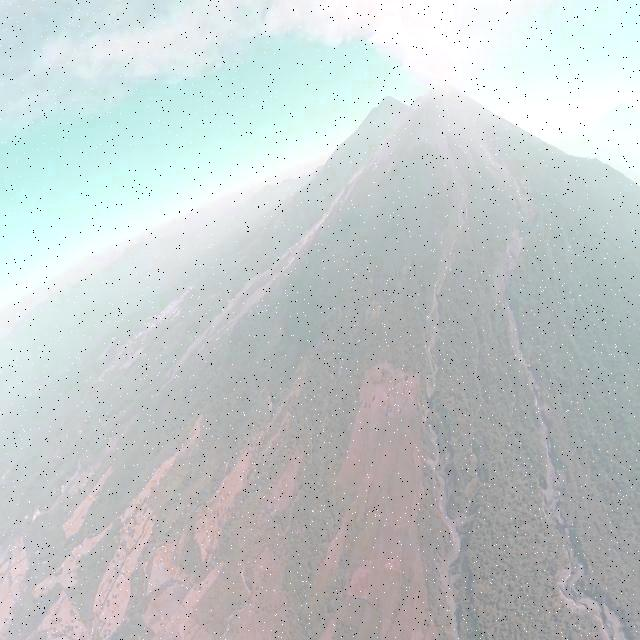Plume: (268, 0, 552, 89)
